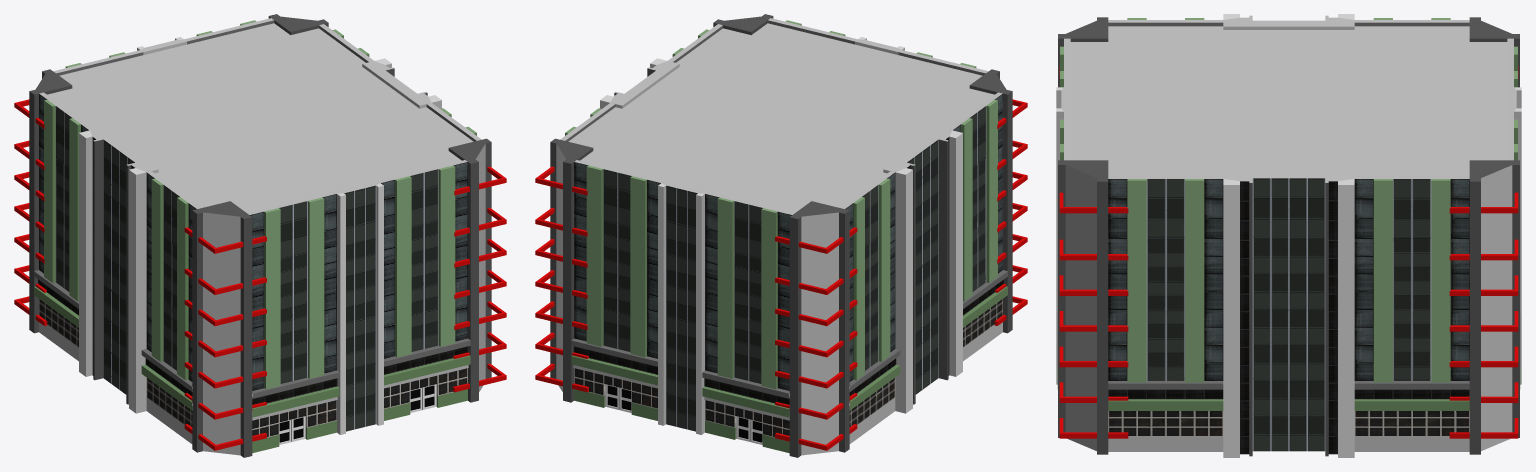
3 views of the same model, side by side, from view 1: azimuth 30°, elevation 25°; view 2: azimuth 150°, elevation 25°; view 3: azimuth 270°, elevation 25° (orthographic). The views are drawn at different scales.
Parts seen in each view (by area): view 1: Building; view 2: Building; view 3: Building.
Boxes of the visible parts, box(x1,y1,x2,y2) form: Building: box(14, 14, 506, 457); Building: box(535, 14, 1027, 457); Building: box(1056, 14, 1521, 457).
Size of what is drawn, in the model's own units: 30.85 by 23 by 35.52.
